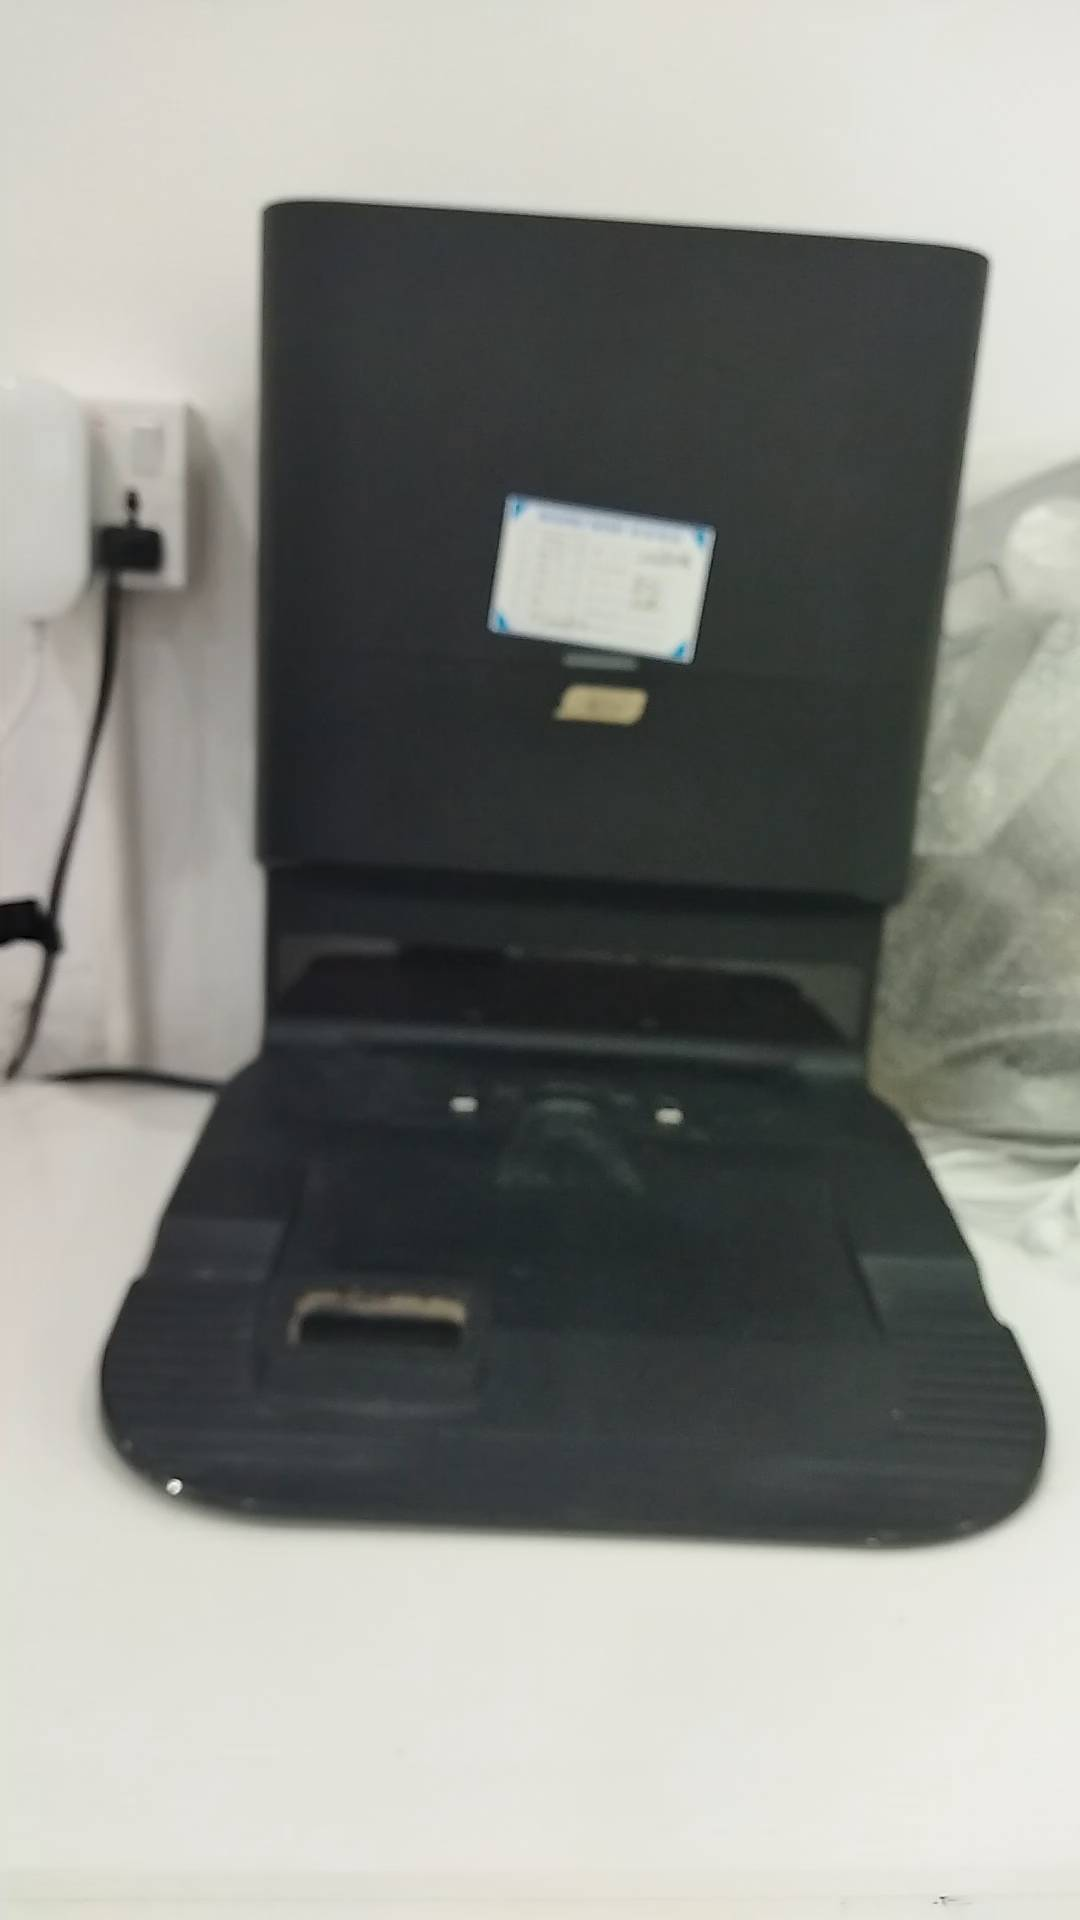dust collecting barrel: (102, 196, 1050, 1553)
